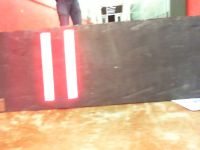switch: (63, 29, 79, 99), (39, 32, 54, 101)
